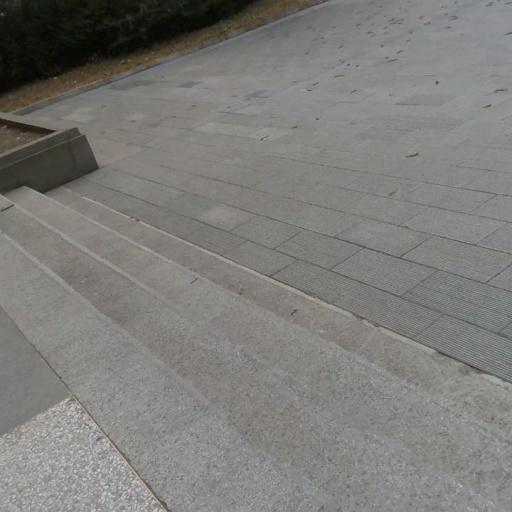stairs: (0, 188, 511, 510)
